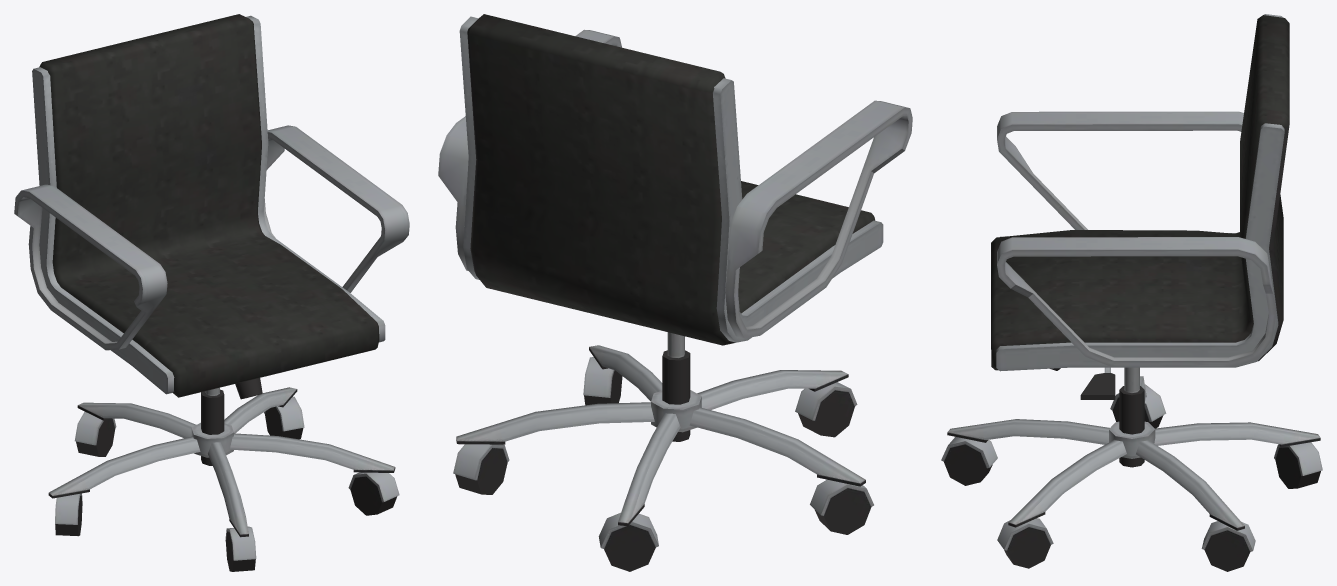
File: chair.glb
3 views of the same model, side by side, from view 1: azimuth 30°, elevation 25°; view 2: azimuth 150°, elevation 25°; view 3: azimuth 270°, elevation 25° (orthographic). The views are drawn at different scales.
Visible parts, largest first — view 1: OfficeChair_Modern_OfficeChair_Modern_0; view 2: OfficeChair_Modern_OfficeChair_Modern_0; view 3: OfficeChair_Modern_OfficeChair_Modern_0.
Part boxes in pixels (x1=…): OfficeChair_Modern_OfficeChair_Modern_0: x1=14, y1=14, x2=409, y2=571; OfficeChair_Modern_OfficeChair_Modern_0: x1=438, y1=14, x2=912, y2=571; OfficeChair_Modern_OfficeChair_Modern_0: x1=941, y1=14, x2=1322, y2=571.
Size of the model in its own units: 0.7204 by 0.9662 by 0.7598.
1 material, 1 textured.
